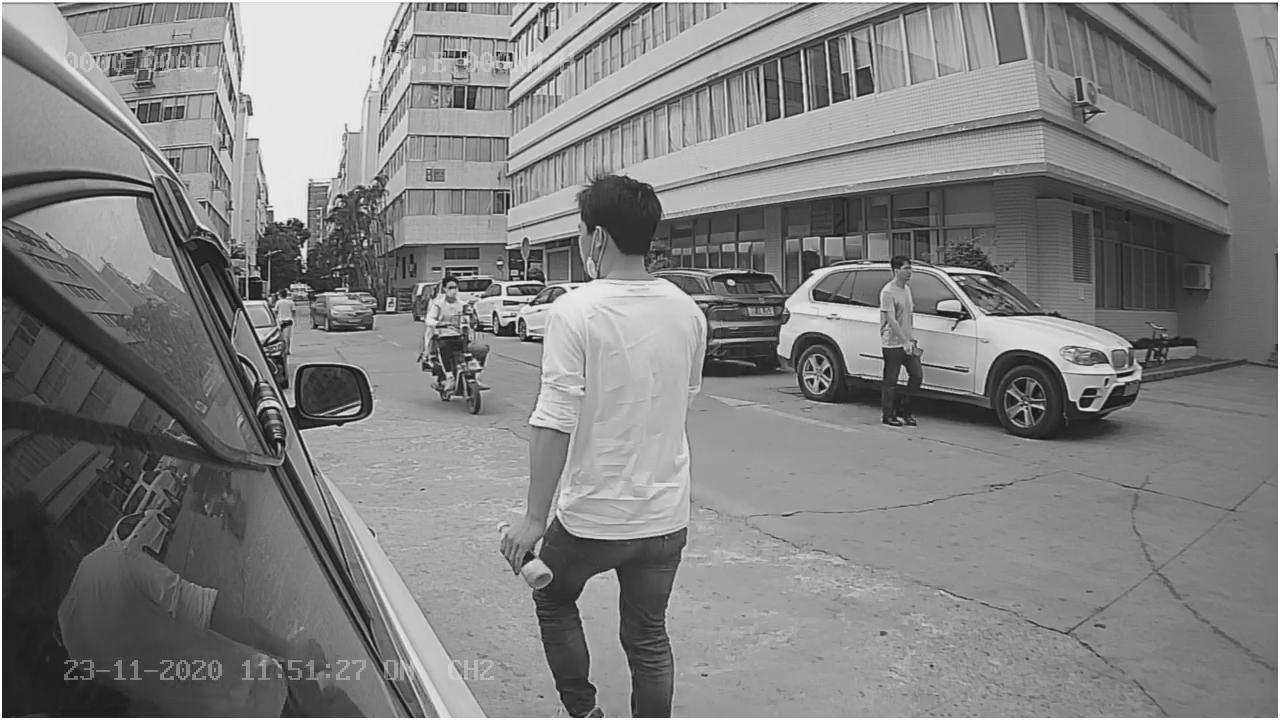person: (502, 166, 699, 690), (867, 250, 935, 429)
